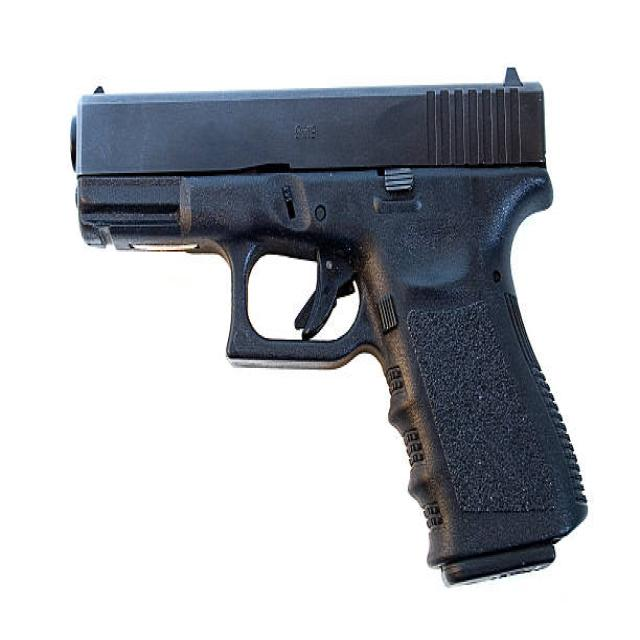pistol: (67, 59, 596, 594)
